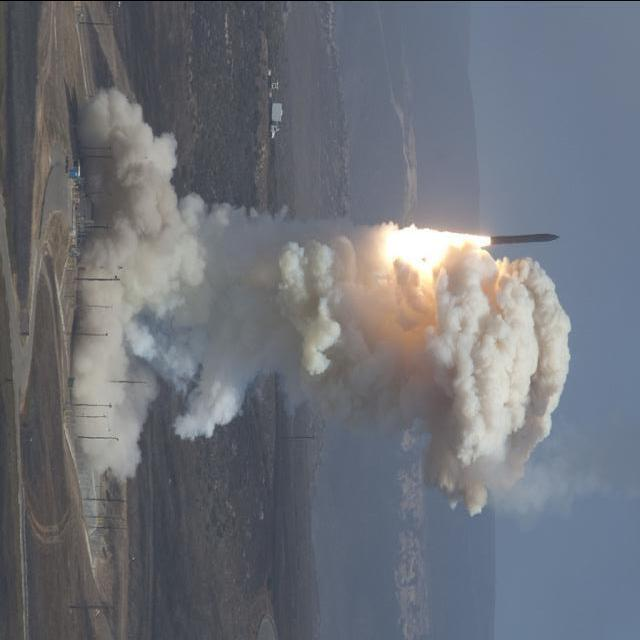missile: (486, 223, 570, 256)
